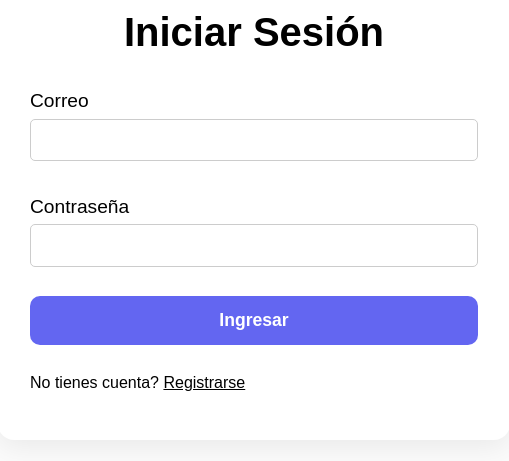
Test case: Login Page › Validation Email Input › should have an error message if the email is empty
Click the submit button: (254, 321) [30,296,478,345]
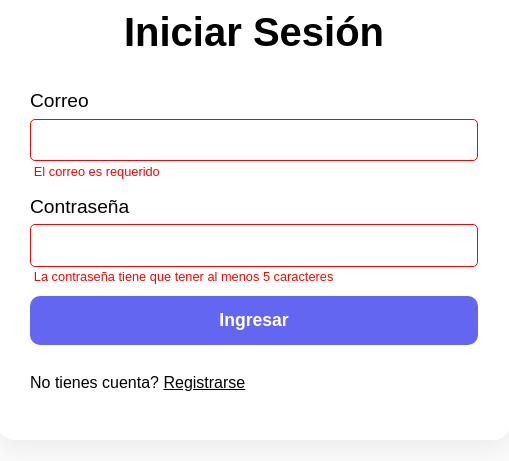
Check: the text "El correo es requerido" is shown, box [30,161,160,179]
